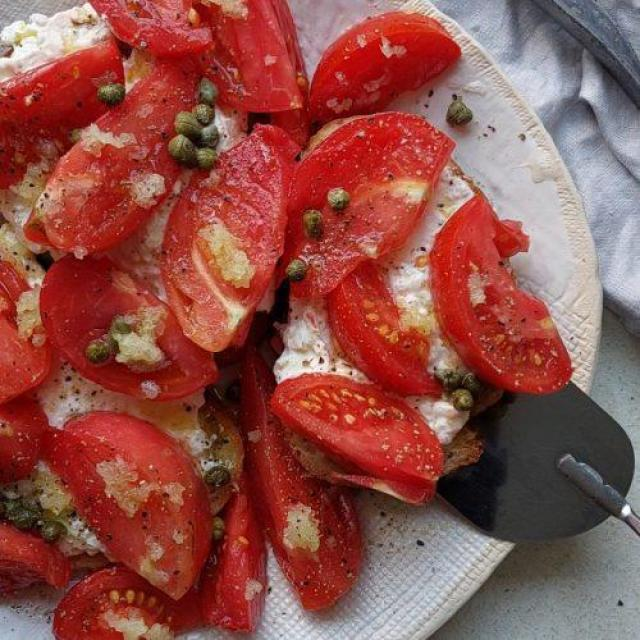Tomato: (51, 405, 210, 596), (432, 195, 574, 404), (168, 120, 290, 347), (317, 235, 439, 399)
